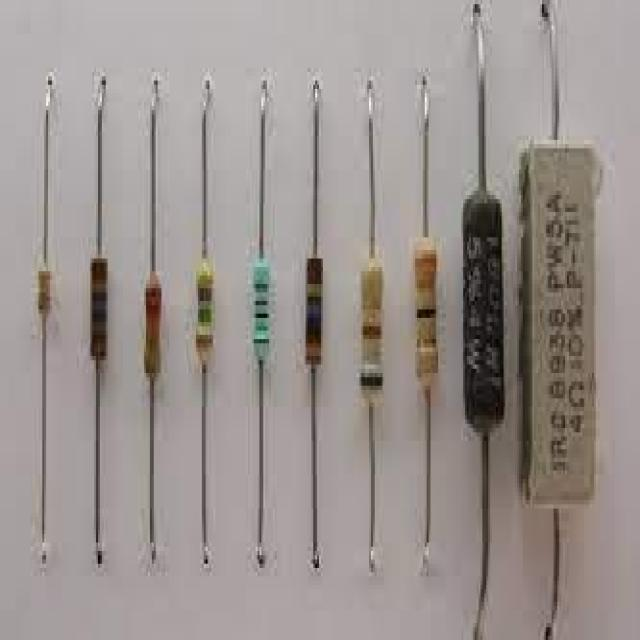Resistor: (522, 116, 598, 515), (465, 180, 505, 442), (239, 210, 291, 405), (406, 182, 449, 407), (347, 231, 397, 422), (295, 231, 349, 401), (89, 248, 119, 367), (146, 264, 170, 402), (194, 252, 220, 376), (38, 245, 61, 323)
black: (359, 371, 385, 386)
